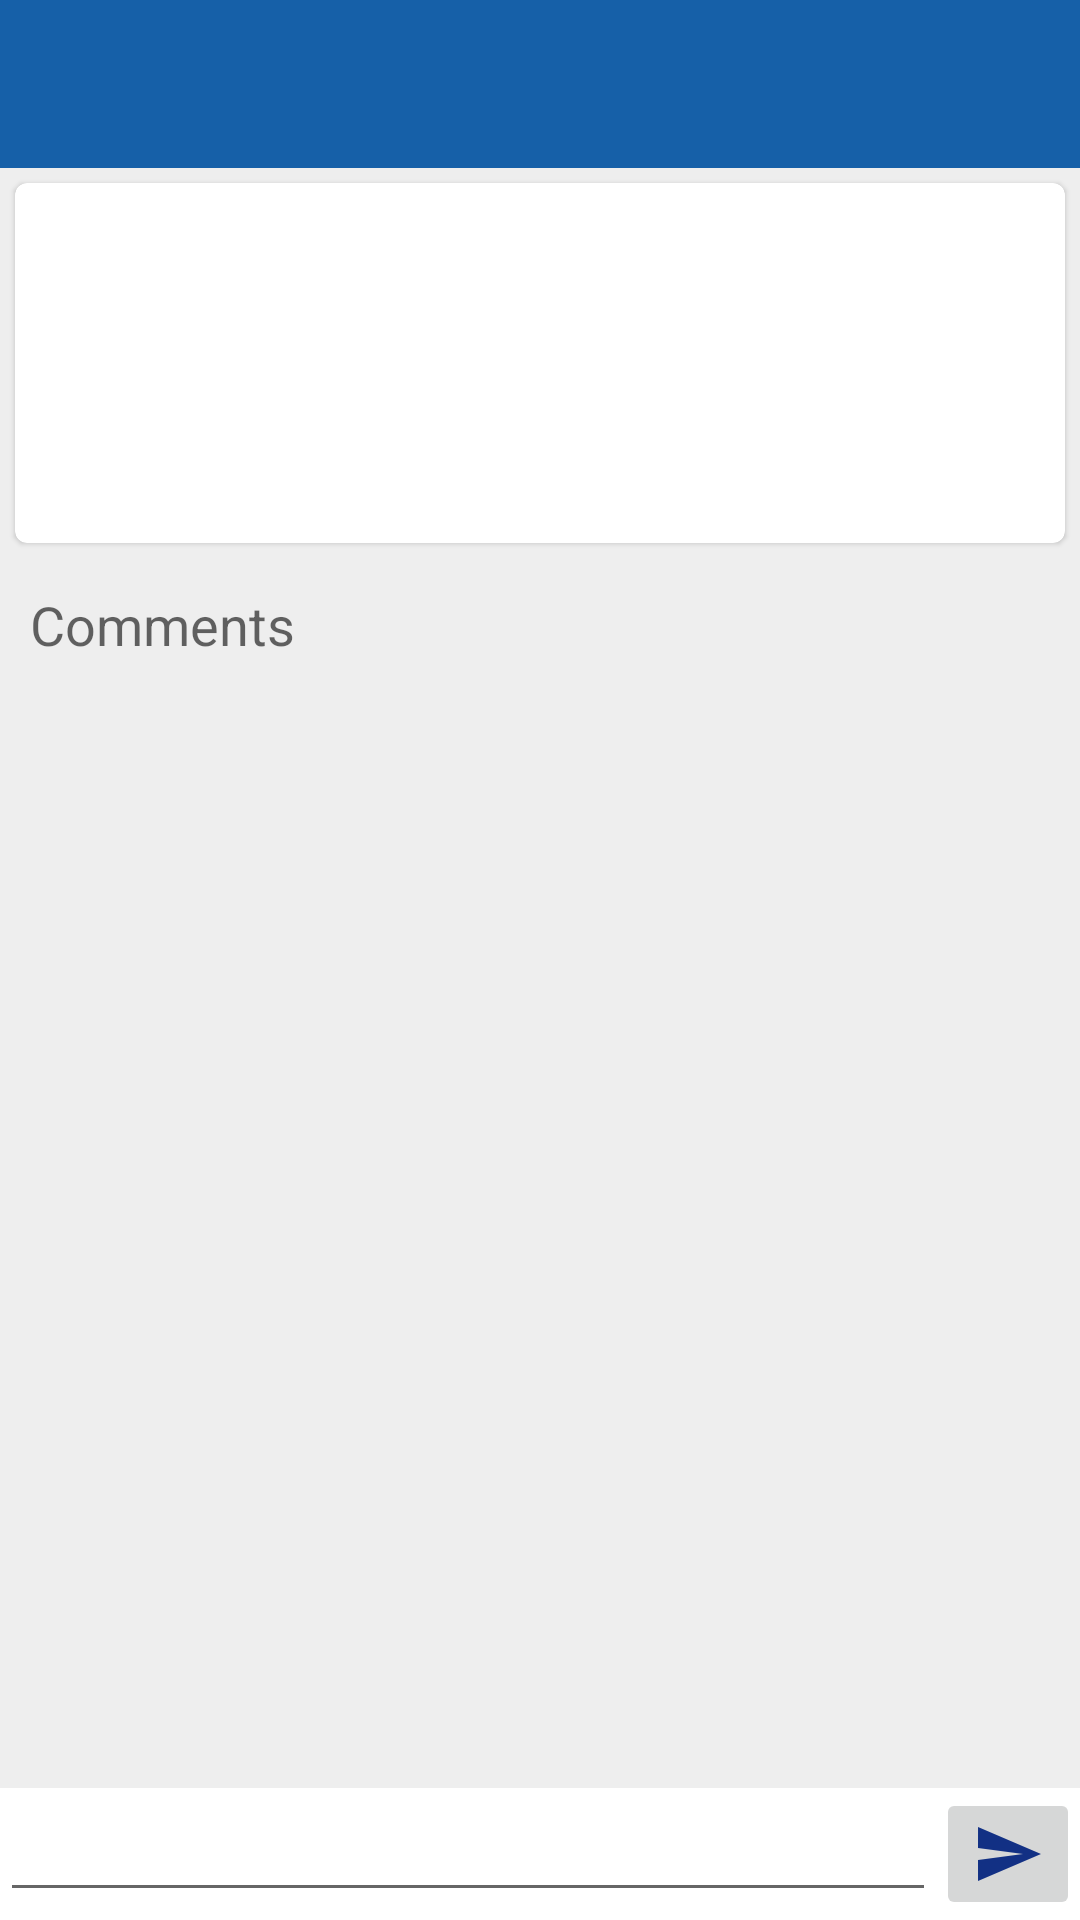

Screen size 1080x1920. Icon name, then its box in pixels as (x1, y1, x2, y2):
send: (948, 1806, 1068, 1902)
